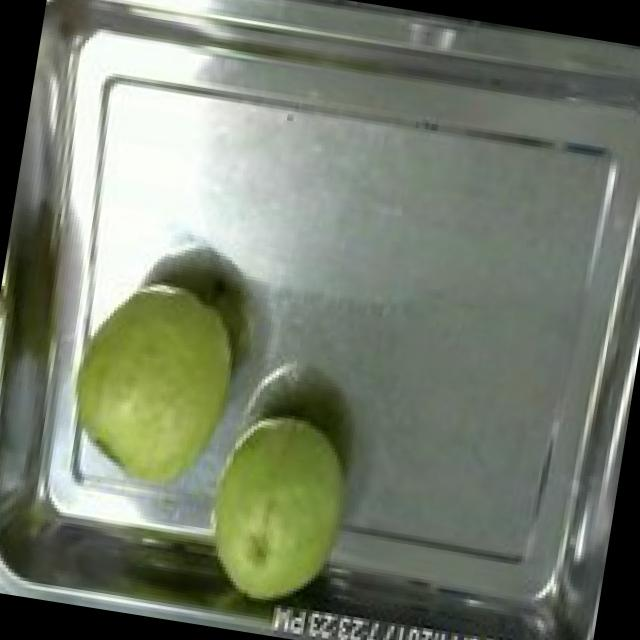Fruit: (29, 254, 280, 515), (175, 390, 376, 628)
